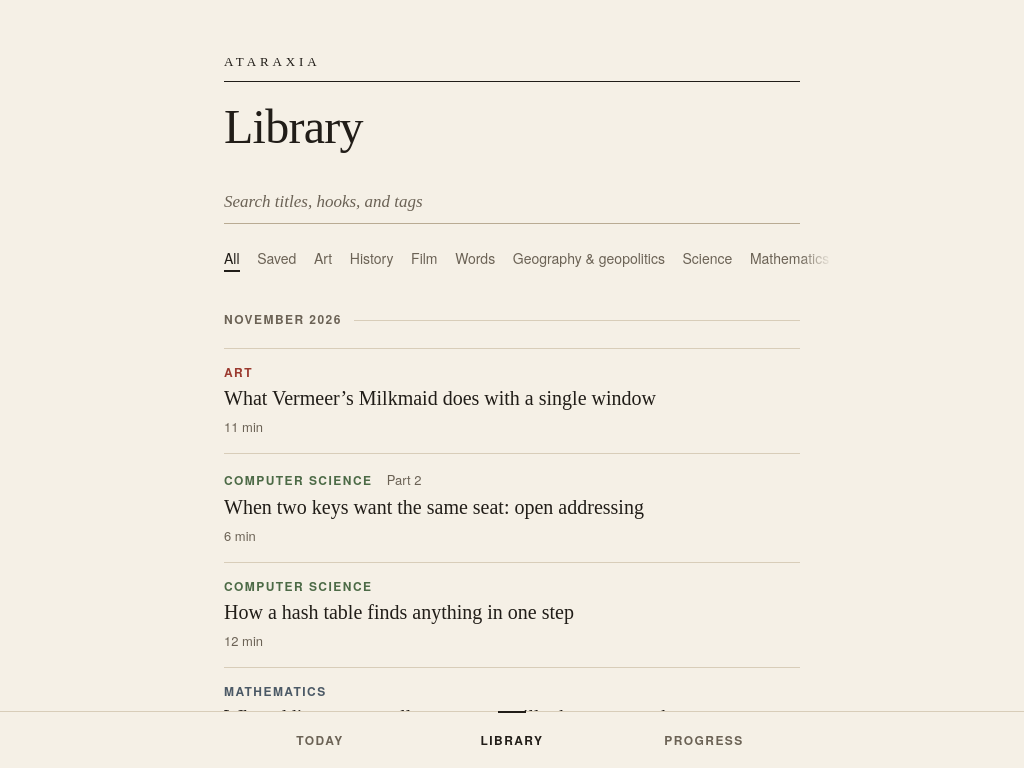
Test: Library › filters by saved and by subject
Later steps or results of the test are not shown.
Expected: the heading "November 2026" is shown, [224, 310, 342, 328]
Click the button "Saved". click: {"x": 277, "y": 258}
box: [257, 236, 296, 280]
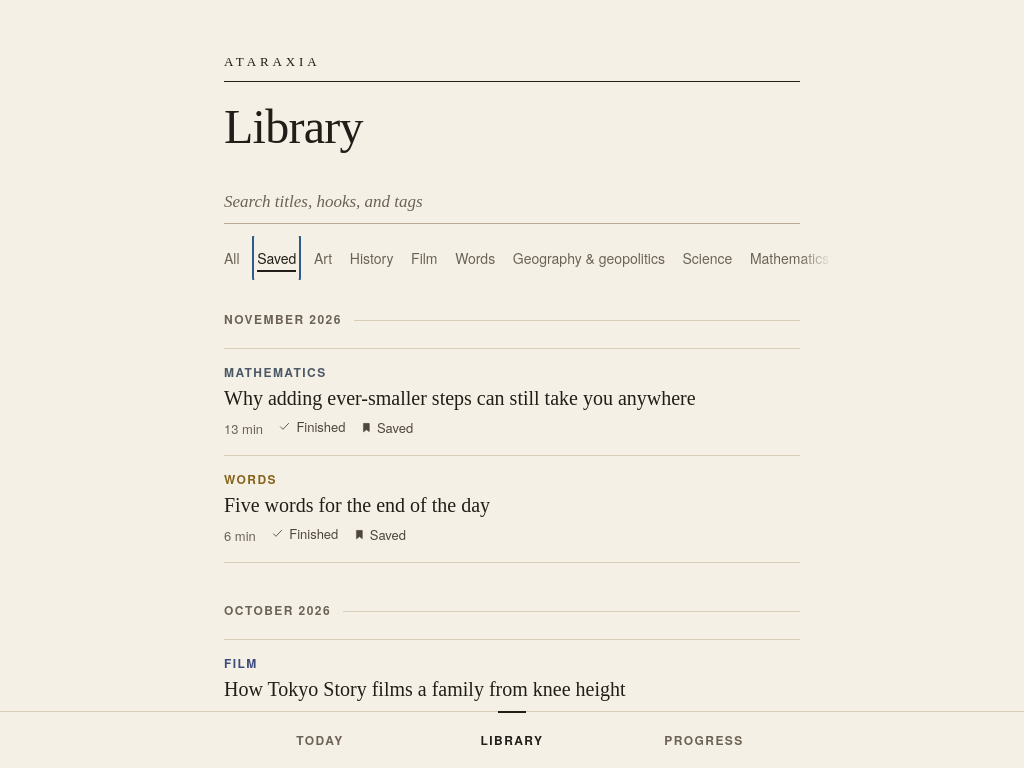
Now the link "hash table" is gone
